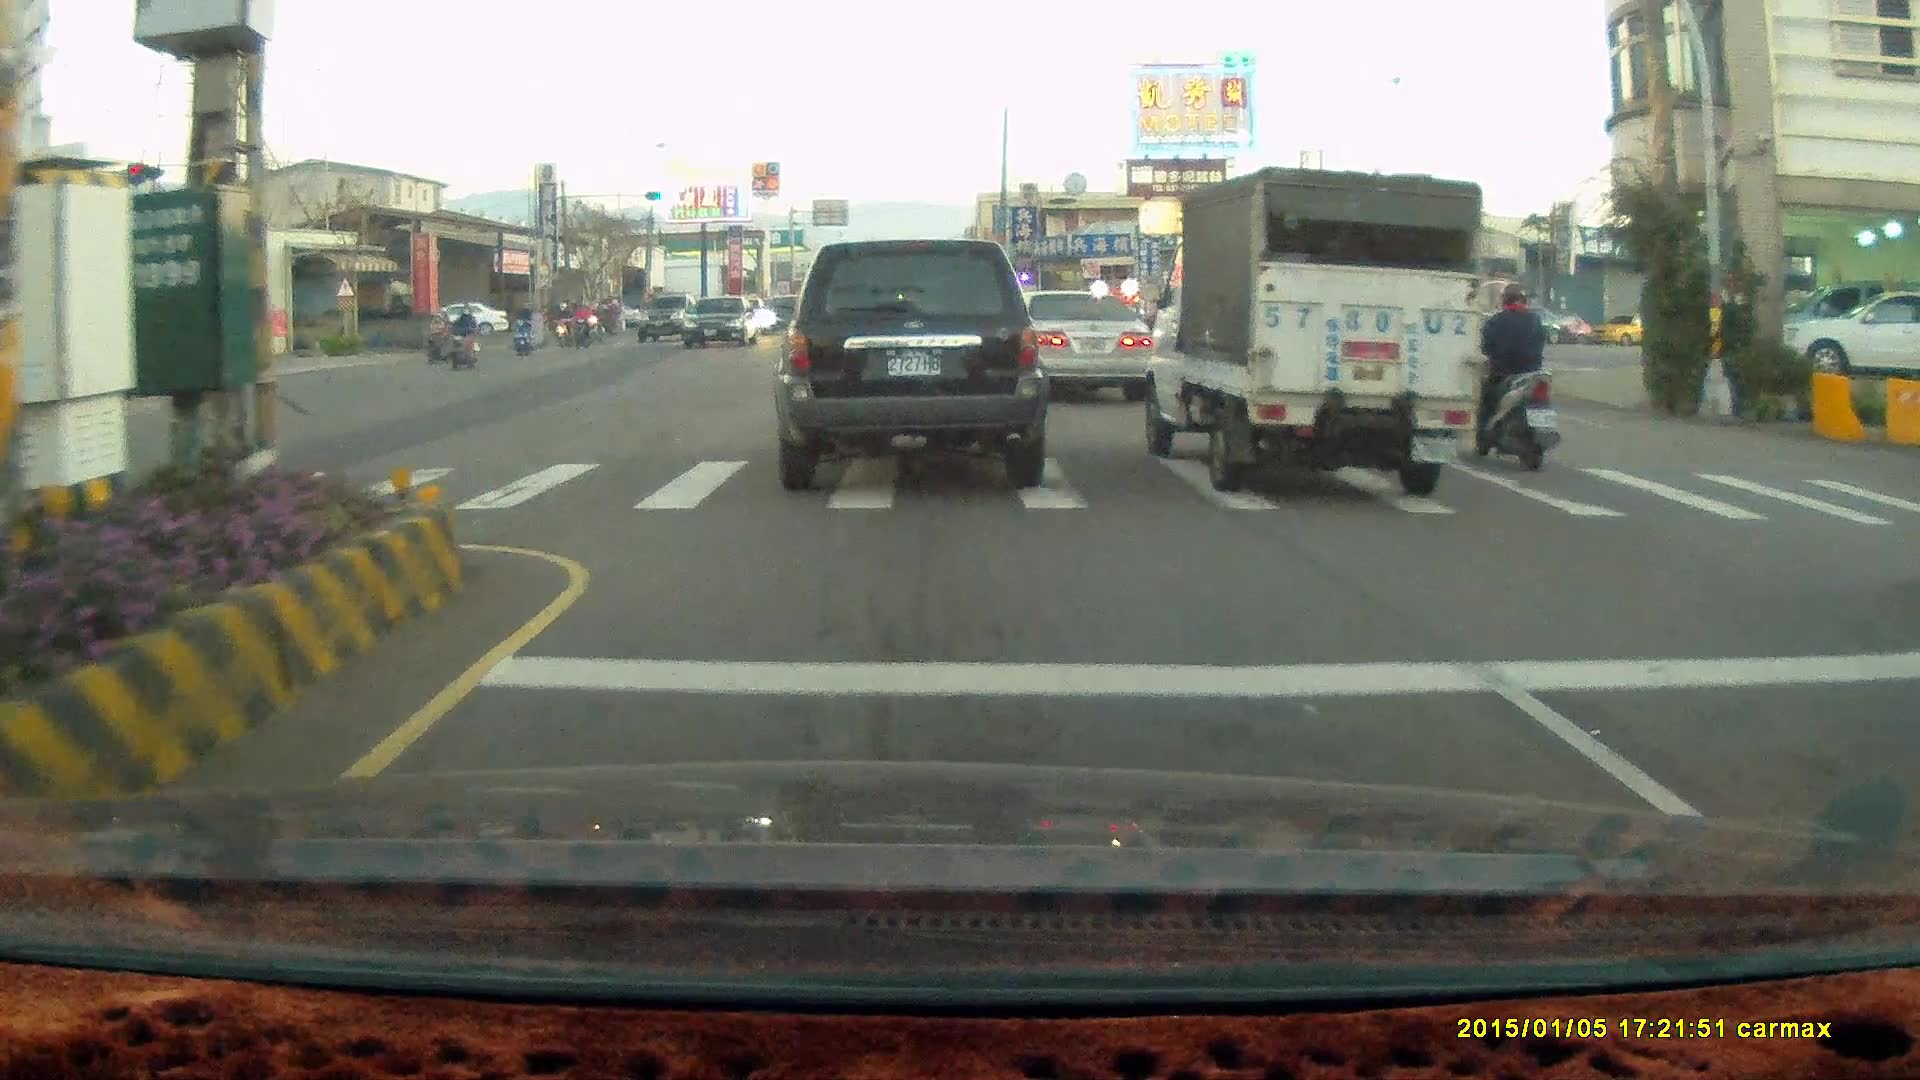rider: (1447, 281, 1562, 479), (420, 302, 454, 359), (450, 307, 481, 365), (509, 298, 536, 356), (570, 296, 598, 348), (548, 297, 574, 345)
vehicle: (1139, 163, 1483, 495), (772, 235, 1051, 490), (996, 288, 1149, 400), (1021, 290, 1153, 408), (1777, 286, 1920, 383), (1787, 286, 1920, 383), (47, 314, 145, 396), (682, 295, 761, 352), (435, 302, 510, 340)
